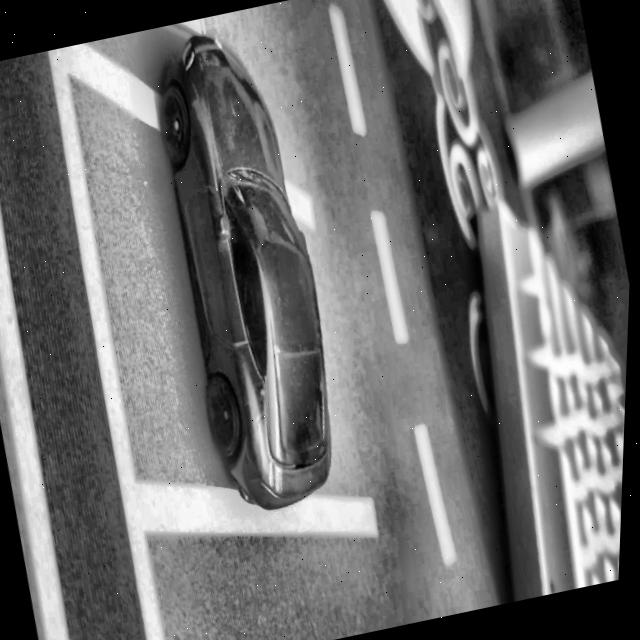car: (127, 18, 369, 520)
